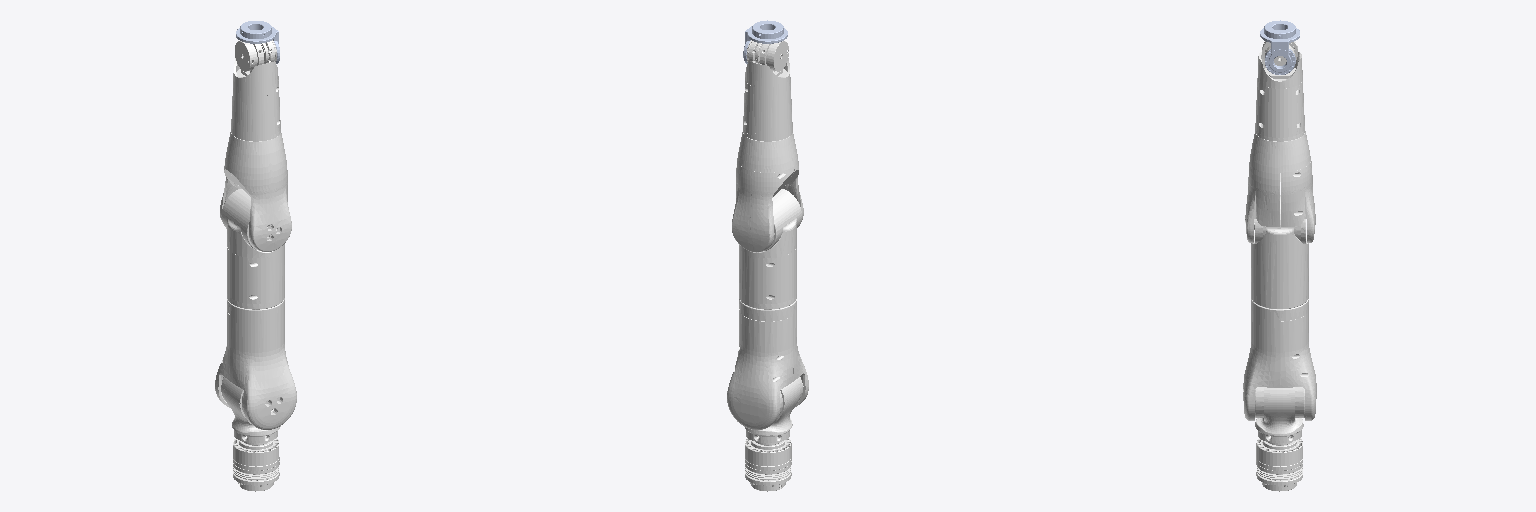
The robot description file, URDF, robot "ARM":
<?xml version="1.0" encoding="utf-8"?>
<!-- This URDF was automatically created by SolidWorks to URDF Exporter! Originally created by Stephen Brawner (brawner@gmail.com) 
     Commit Version: 1.6.0-4-g7f85cfe  Build Version: 1.6.7995.38578
     For more information, please see http://wiki.ros.org/sw_urdf_exporter -->
<robot
  name="ARM">
  <link
    name="base_link">
    <inertial>
      <origin
        xyz="0.000316292229721025 0.000611724643327152 0.213081217815062"
        rpy="0 0 0" />
      <mass
        value="3.57530804515863" />
      <inertia
        ixx="0.110715360083667"
        ixy="1.99698397001108E-07"
        ixz="-0.000187556798041249"
        iyy="0.110452120670841"
        iyz="9.86207728667352E-05"
        izz="0.00261525910501462" />
    </inertial>
    <visual>
      <origin
        xyz="0 0 0"
        rpy="0 0 0" />
      <geometry>
        <mesh
          filename="../meshes/base_link.STL" />
      </geometry>
      <material
        name="">
        <color
          rgba="1 1 1 1" />
      </material>
    </visual>
    <collision>
      <origin
        xyz="0 0 0"
        rpy="0 0 0" />
      <geometry>
        <mesh
          filename="../meshes/base_link.STL" />
      </geometry>
    </collision>
  </link>
  <link
    name="J1">
    <inertial>
      <origin
        xyz="0.000316292229721024 0.000611724643327153 0.208581217815062"
        rpy="0 0 0" />
      <mass
        value="3.57530804515863" />
      <inertia
        ixx="0.110715360083667"
        ixy="1.99698397001487E-07"
        ixz="-0.000187556798041249"
        iyy="0.110452120670841"
        iyz="9.86207728667347E-05"
        izz="0.00261525910501462" />
    </inertial>
    <visual>
      <origin
        xyz="0 0 0"
        rpy="0 0 0" />
      <geometry>
        <mesh
          filename="../meshes/J1.STL" />
      </geometry>
      <material
        name="">
        <color
          rgba="1 1 1 1" />
      </material>
    </visual>
    <collision>
      <origin
        xyz="0 0 0"
        rpy="0 0 0" />
      <geometry>
        <mesh
          filename="../meshes/J1.STL" />
      </geometry>
    </collision>
  </link>
  <joint
    name="J1"
    type="revolute">
    <origin
      xyz="0 0 0.0045"
      rpy="0 0 0" />
    <parent
      link="base_link" />
    <child
      link="J1" />
    <axis
      xyz="0 0 1" />
    <limit
      lower="-3.14"
      upper="3.14"
      effort="0"
      velocity="0" />
  </joint>
  <link
    name="J2">
    <inertial>
      <origin
        xyz="-0.000315829329359078 -0.14348121784581 -0.000611724643327245"
        rpy="0 0 0" />
      <mass
        value="3.57530804515863" />
      <inertia
        ixx="0.110715360120185"
        ixy="-0.000187546274062507"
        ixz="1.99688795872927E-07"
        iyy="0.00261525906849683"
        iyz="9.86207728861282E-05"
        izz="0.110452120670841" />
    </inertial>
    <visual>
      <origin
        xyz="0 0 0"
        rpy="0 0 0" />
      <geometry>
        <mesh
          filename="../meshes/J2.STL" />
      </geometry>
      <material
        name="">
        <color
          rgba="1 1 1 1" />
      </material>
    </visual>
    <collision>
      <origin
        xyz="0 0 0"
        rpy="0 0 0" />
      <geometry>
        <mesh
          filename="../meshes/J2.STL" />
      </geometry>
    </collision>
  </link>
  <joint
    name="J2"
    type="revolute">
    <origin
      xyz="0 0 0.0651"
      rpy="-1.5708 0 -3.1416" />
    <parent
      link="J1" />
    <child
      link="J2" />
    <axis
      xyz="0 0 1" />
    <limit
      lower="-1.57"
      upper="1.57"
      effort="0"
      velocity="0" />
  </joint>
  <link
    name="J3">
    <inertial>
      <origin
        xyz="-0.000611724643327671 0.000316292229720983 0.0125085757726616"
        rpy="0 0 0" />
      <mass
        value="3.57530804515863" />
      <inertia
        ixx="0.110452120670841"
        ixy="-1.99698397000572E-07"
        ixz="-9.86207728664461E-05"
        iyy="0.110715360083667"
        iyz="-0.000187556798041212"
        izz="0.00261525910501462" />
    </inertial>
    <visual>
      <origin
        xyz="0 0 0"
        rpy="0 0 0" />
      <geometry>
        <mesh
          filename="../meshes/J3.STL" />
      </geometry>
      <material
        name="">
        <color
          rgba="1 1 1 1" />
      </material>
    </visual>
    <collision>
      <origin
        xyz="0 0 0"
        rpy="0 0 0" />
      <geometry>
        <mesh
          filename="../meshes/J3.STL" />
      </geometry>
    </collision>
  </link>
  <joint
    name="J3"
    type="revolute">
    <origin
      xyz="0 -0.13097 0"
      rpy="1.5708 -1.5708 0" />
    <parent
      link="J2" />
    <child
      link="J3" />
    <axis
      xyz="0 0 1" />
    <limit
      lower="-3.14"
      upper="3.14"
      effort="0"
      velocity="0" />
  </joint>
  <link
    name="J4">
    <inertial>
      <origin
        xyz="0.000255245608726876 -0.102058257967522 -0.000611724643327245"
        rpy="0 0 0" />
      <mass
        value="3.57530804515863" />
      <inertia
        ixx="0.110715360083667"
        ixy="-0.000187556798041251"
        ixz="-1.99698397001027E-07"
        iyy="0.00261525910501462"
        iyz="-9.86207728666872E-05"
        izz="0.110452120670841" />
    </inertial>
    <visual>
      <origin
        xyz="0 0 0"
        rpy="0 0 0" />
      <geometry>
        <mesh
          filename="../meshes/J4.STL" />
      </geometry>
      <material
        name="">
        <color
          rgba="1 1 1 1" />
      </material>
    </visual>
    <collision>
      <origin
        xyz="0 0 0"
        rpy="0 0 0" />
      <geometry>
        <mesh
          filename="../meshes/J4.STL" />
      </geometry>
    </collision>
  </link>
  <joint
    name="J4"
    type="revolute">
    <origin
      xyz="0 6.1047E-05 0.11457"
      rpy="1.5708 0 1.5708" />
    <parent
      link="J3" />
    <child
      link="J4" />
    <axis
      xyz="0 0 -1" />
    <limit
      lower="-1.57"
      upper="1.57"
      effort="0"
      velocity="0" />
  </joint>
  <link
    name="J5">
    <inertial>
      <origin
        xyz="0.000316292229720947 0.000611724644171984 -0.223393774313701"
        rpy="0 0 0" />
      <mass
        value="3.57530804515863" />
      <inertia
        ixx="0.110715360083667"
        ixy="1.99698396241177E-07"
        ixz="-0.000187556798041252"
        iyy="0.110452120670842"
        iyz="9.86207724298961E-05"
        izz="0.00261525910501382" />
    </inertial>
    <visual>
      <origin
        xyz="0 0 0"
        rpy="0 0 0" />
      <geometry>
        <mesh
          filename="../meshes/J5.STL" />
      </geometry>
      <material
        name="">
        <color
          rgba="1 1 1 1" />
      </material>
    </visual>
    <collision>
      <origin
        xyz="0 0 0"
        rpy="0 0 0" />
      <geometry>
        <mesh
          filename="../meshes/J5.STL" />
      </geometry>
    </collision>
  </link>
  <joint
    name="J5"
    type="revolute">
    <origin
      xyz="-6.1047E-05 0.12134 0"
      rpy="-1.5708 0 0" />
    <parent
      link="J4" />
    <child
      link="J5" />
    <axis
      xyz="0 0 1" />
    <limit
      lower="-3.14"
      upper="3.14"
      effort="0"
      velocity="0" />
  </joint>
  <link
    name="J6">
    <inertial>
      <origin
        xyz="7.12657008552315E-09 0.0213446329881337 -0.0121523647950665"
        rpy="0 0 0" />
      <mass
        value="0.0596828739578881" />
      <inertia
        ixx="2.66893847532864E-05"
        ixy="-3.70911477775847E-12"
        ixz="3.17285138880359E-12"
        iyy="2.22221774028086E-05"
        iyz="8.14833080528861E-06"
        izz="2.10723078887235E-05" />
    </inertial>
    <visual>
      <origin
        xyz="0 0 0"
        rpy="0 0 0" />
      <geometry>
        <mesh
          filename="../meshes/J6.STL" />
      </geometry>
      <material
        name="">
        <color
          rgba="0.866666666666667 0.909803921568627 1 1" />
      </material>
    </visual>
    <collision>
      <origin
        xyz="0 0 0"
        rpy="0 0 0" />
      <geometry>
        <mesh
          filename="../meshes/J6.STL" />
      </geometry>
    </collision>
  </link>
  <joint
    name="J6"
    type="revolute">
    <origin
      xyz="0.020062 0.00039936 0.1133"
      rpy="1.5708 0 1.5708" />
    <parent
      link="J5" />
    <child
      link="J6" />
    <axis
      xyz="0 0 1" />
    <limit
      lower="-1.57"
      upper="1.57"
      effort="0"
      velocity="0" />
  </joint>
</robot>

--- What the picture shows (computed from the rendered views, not written in the file) ---
The picture shows the robot from 3 angles, left to right: view 1: azimuth 30°, elevation 25°; view 2: azimuth 150°, elevation 25°; view 3: azimuth 270°, elevation 25°; orthographic projection.
Model ARM with 7 links and 6 joints (6 revolute), rooted at base_link, posed every joint at zero.
Visible links, largest first — view 1: J2, J4, J3, J5, base_link, J1, J6; view 2: J2, J4, J3, J5, base_link, J1, J6; view 3: J2, J4, J3, J5, J1, base_link, J6.
Boxes of the visible links, <box> form: J2: <box>215,298,296,429</box>; J4: <box>220,132,291,251</box>; J3: <box>222,189,284,309</box>; J5: <box>231,40,280,141</box>; base_link: <box>233,436,279,491</box>; J1: <box>221,377,280,445</box>; J6: <box>236,21,279,63</box>; J2: <box>727,298,808,429</box>; J4: <box>732,132,803,252</box>; J3: <box>739,189,801,309</box>; J5: <box>743,40,792,141</box>; base_link: <box>745,437,791,491</box>; J1: <box>745,377,802,445</box>; J6: <box>743,20,787,63</box>; J2: <box>1243,299,1316,420</box>; J4: <box>1245,131,1315,242</box>; J3: <box>1251,195,1308,308</box>; J5: <box>1255,41,1304,141</box>; J1: <box>1255,387,1304,445</box>; base_link: <box>1256,438,1302,491</box>; J6: <box>1260,20,1299,74</box>.
Size in the robot's own frame: 0.0809 by 0.0939 by 0.6453 metres.
7 mesh visuals loaded from 7 distinct referenced files (7 binary STL).
